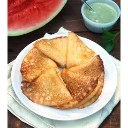dosa: (43, 33, 106, 103), (22, 45, 66, 109)
